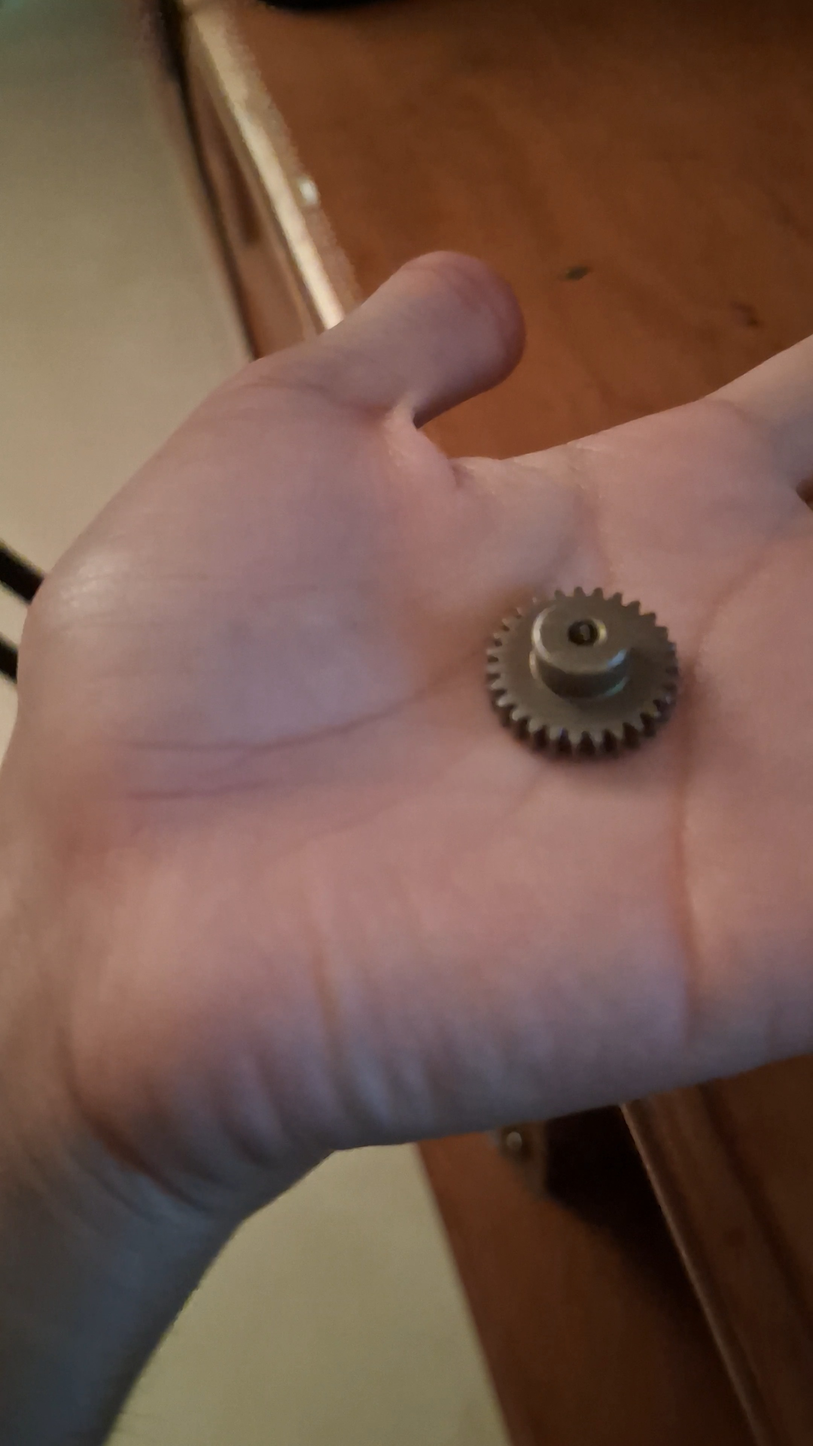spur gear: (487, 588, 678, 755)
